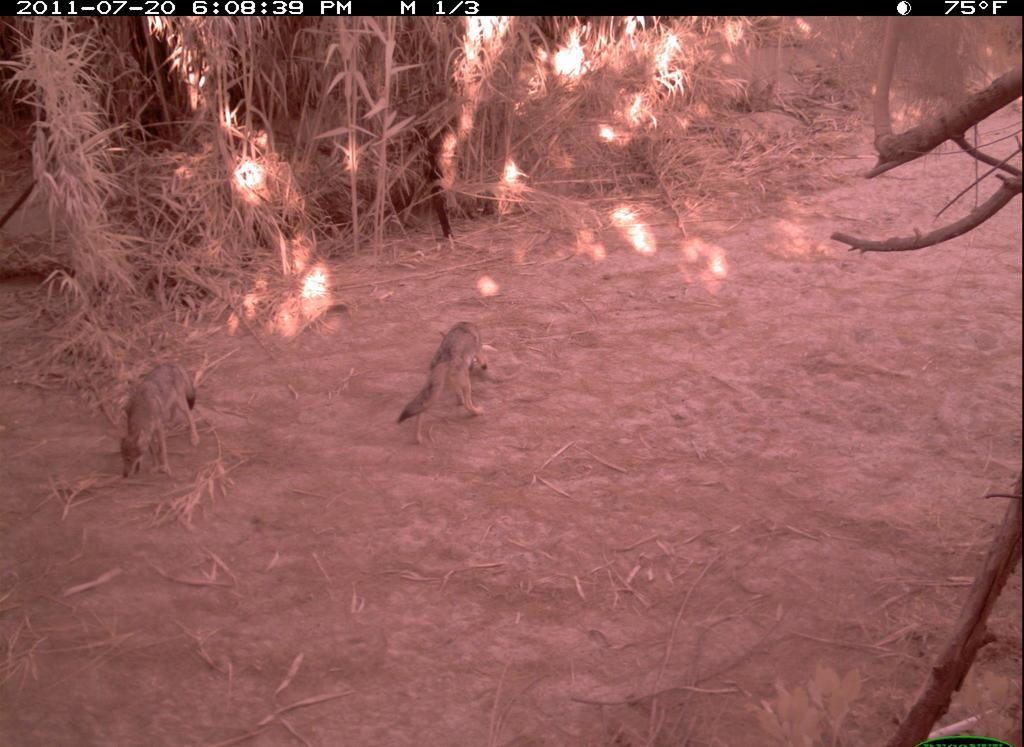coyote: (397, 318, 500, 454), (108, 359, 212, 491)
